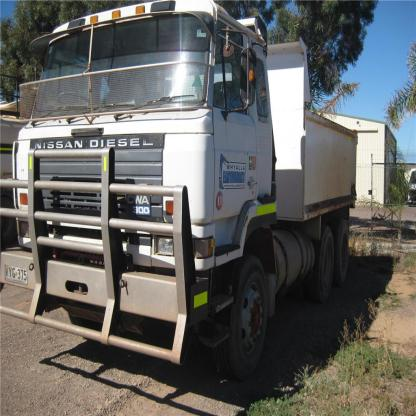dump_truck: (14, 9, 382, 378)
